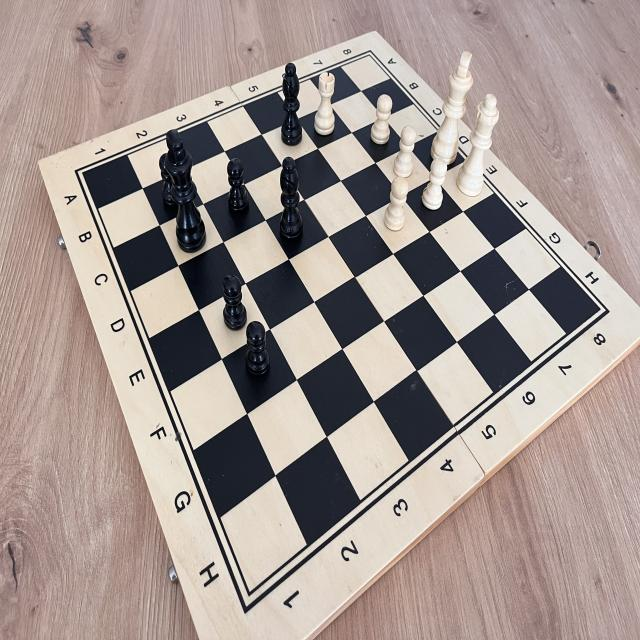black-bishop: (270, 150, 311, 251), (272, 50, 306, 154)
black-king: (160, 118, 212, 256)
black-pawn: (238, 312, 275, 390), (222, 154, 256, 233), (215, 267, 253, 336), (153, 145, 190, 215)
white-king: (426, 40, 484, 192)
white-pawn: (388, 118, 423, 186), (378, 172, 413, 234), (419, 152, 451, 217), (367, 86, 396, 150)
white-queen: (451, 90, 504, 201)
white-rook: (310, 68, 340, 141)
